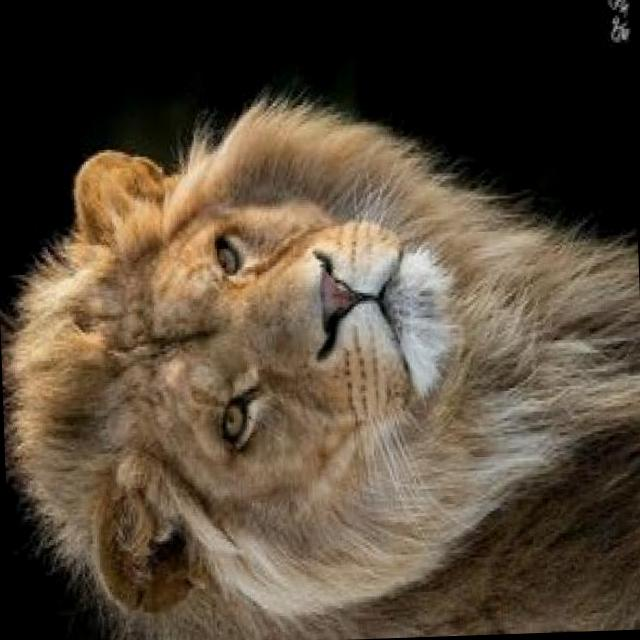lions: (0, 35, 640, 634)
